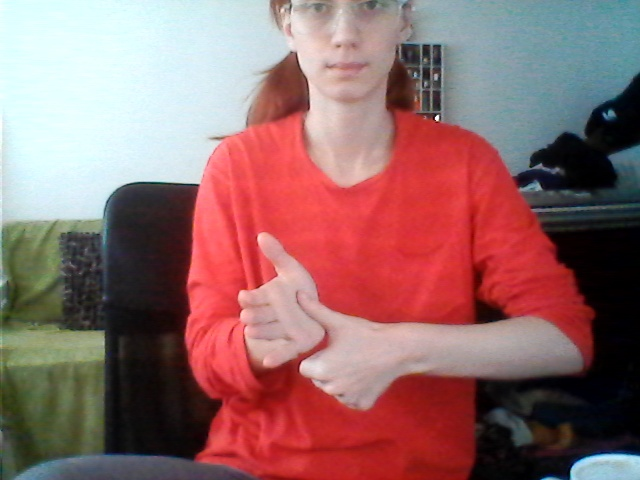pivo: (233, 213, 397, 428)
